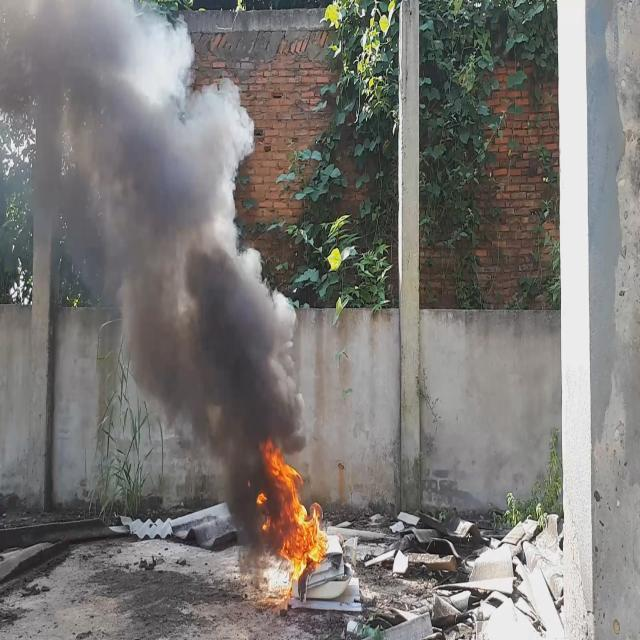Fire: (256, 438, 328, 580)
Smoke: (0, 0, 310, 542)
